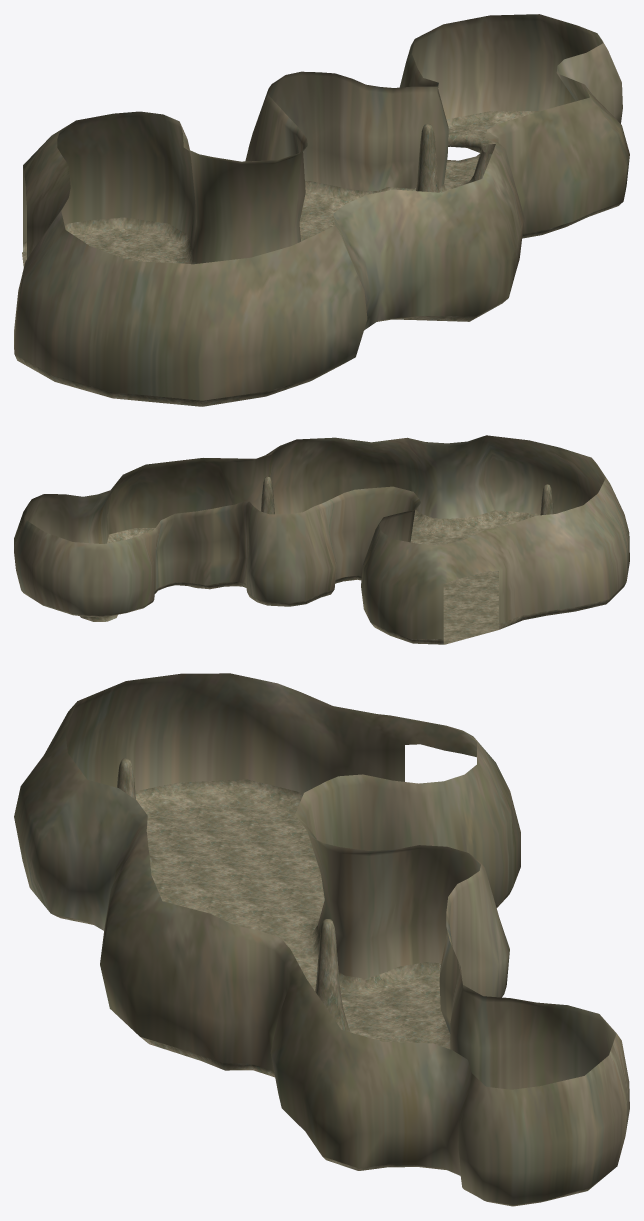
Rendered from OVERHILL_A_01_TREASURE_CAVE_01.fbx.
3 renders of one model, top to bottom at view 1: azimuth 30°, elevation 25°; view 2: azimuth 150°, elevation 25°; view 3: azimuth 270°, elevation 25°, orthographic. The views are drawn at different scales.
Parts seen in each view (by area): view 1: OVERHILL_A_01_TREASURE_CAVE_01; view 2: OVERHILL_A_01_TREASURE_CAVE_01; view 3: OVERHILL_A_01_TREASURE_CAVE_01.
Part boxes in pixels (box(x1,y1,x2,y2)): OVERHILL_A_01_TREASURE_CAVE_01: box(14, 14, 629, 406); OVERHILL_A_01_TREASURE_CAVE_01: box(14, 435, 629, 644); OVERHILL_A_01_TREASURE_CAVE_01: box(14, 673, 629, 1206).
Size of the model in its own units: 389675 by 91038 by 263521.
2 materials, 2 textured.
